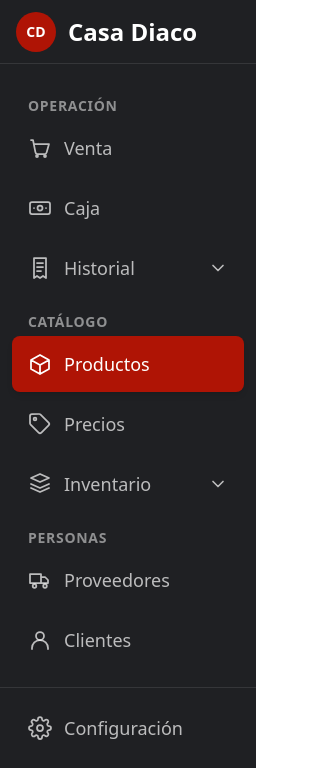
Test case: Sidebar › collapses the desktop rail to icons only, and can expand it back
This screenshot has width=320, height=768.
Expected: the text "Productos" is shown, [64, 352, 150, 376]
Click the button named "Colapsar menú": (128, 32) [16, 6, 240, 58]
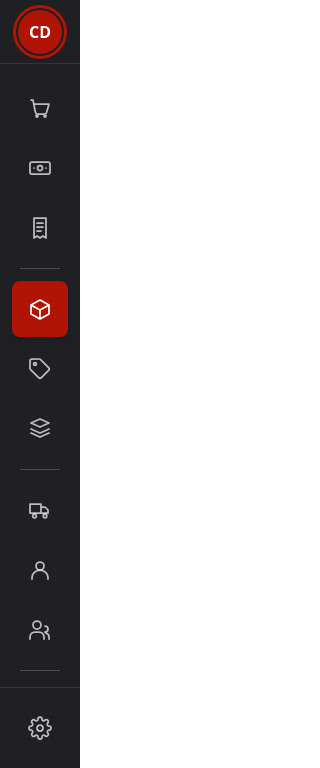
Expected: the text "Productos" is not shown
Expected: the link named "Productos" has attribute title="Productos", [12, 281, 68, 337]
Click the button named "Expandir menú": (40, 32) [18, 10, 62, 54]
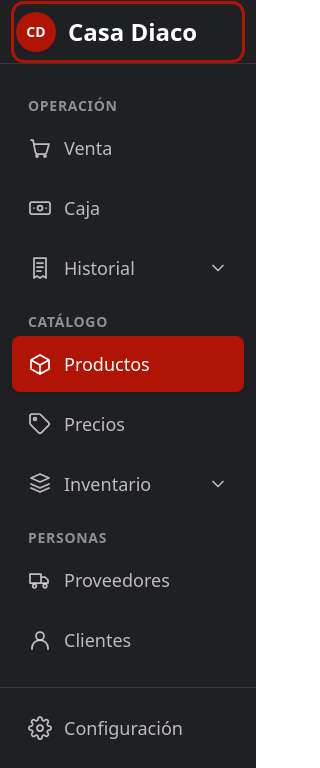
Expected: the text "Productos" is shown, [64, 352, 150, 376]
